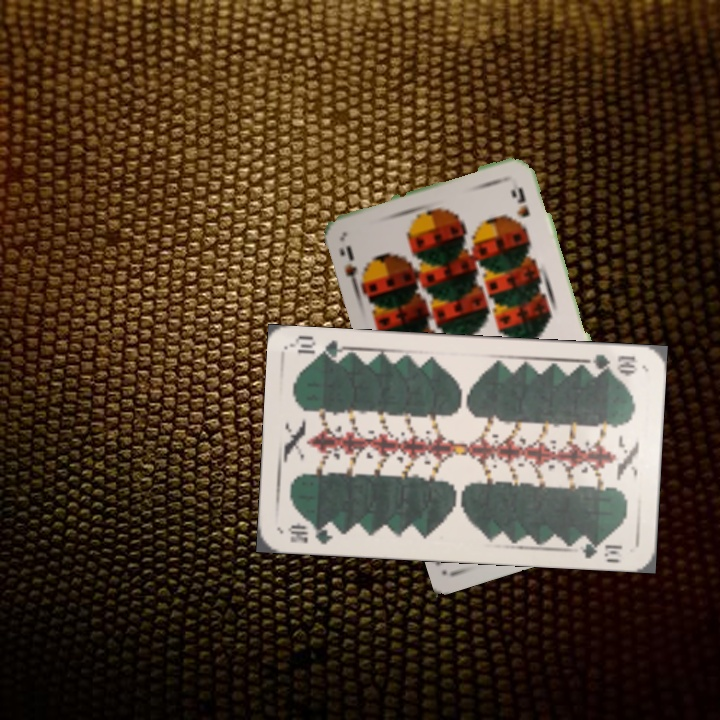G10: (581, 350, 640, 378), (284, 519, 336, 547)
S9: (335, 241, 372, 292)
